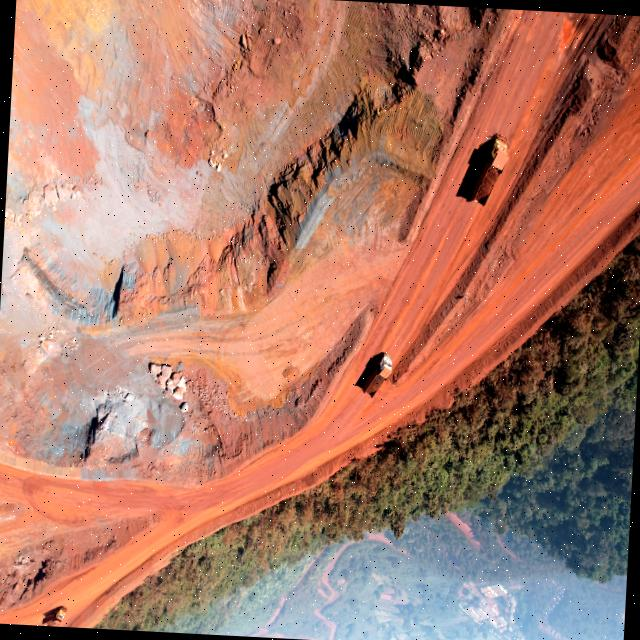Dumper truck: (473, 136, 507, 206), (363, 353, 393, 398), (44, 606, 68, 626)
